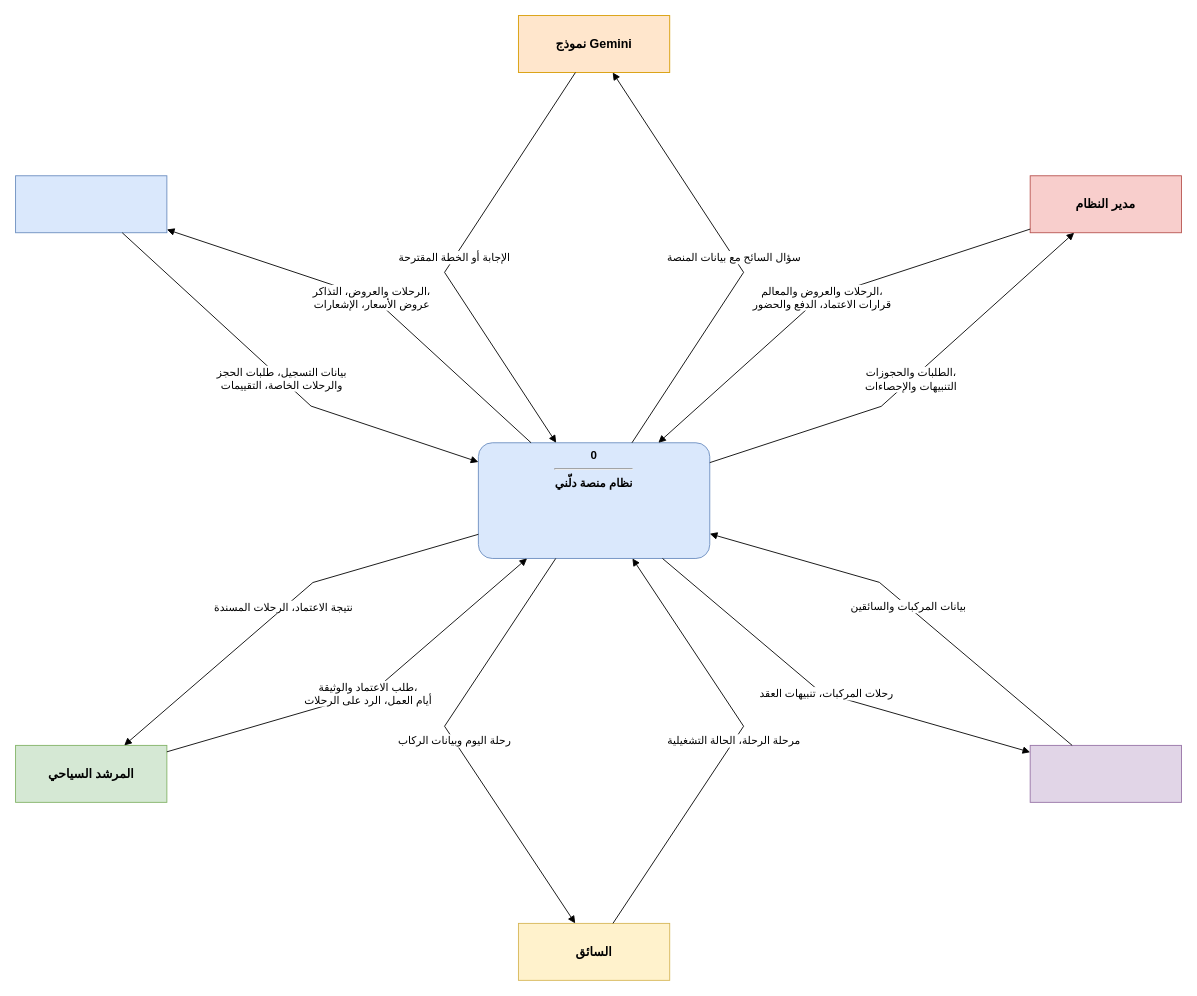
Some shapes in this 1197 by 996 pixel diagram are drawn without their labels. The box of each missing label's shape, as (x1, y1, x2, y2) in pixels:
السائح: (15, 175, 167, 233)
شركة النقل: (1029, 744, 1181, 802)
